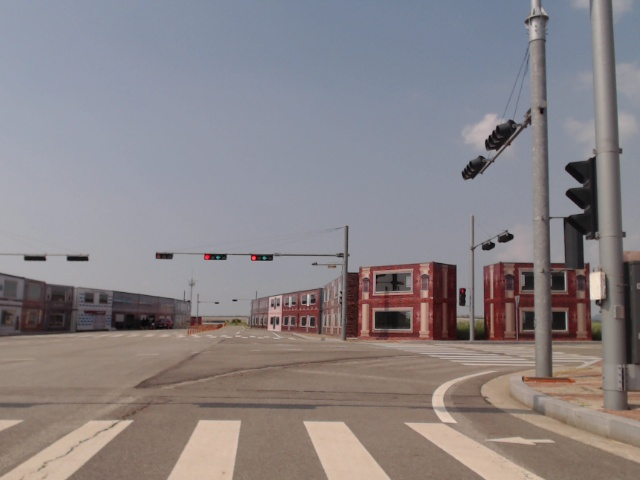left_green_4: (204, 254, 227, 260), (252, 255, 273, 261)
